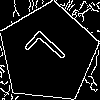L: (23, 28, 75, 80)
